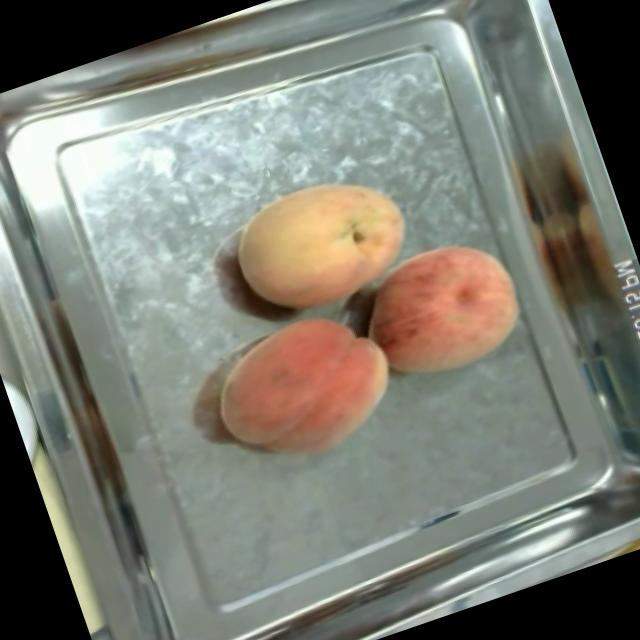Fruit: (192, 288, 414, 486), (215, 150, 429, 334), (344, 217, 541, 398)
